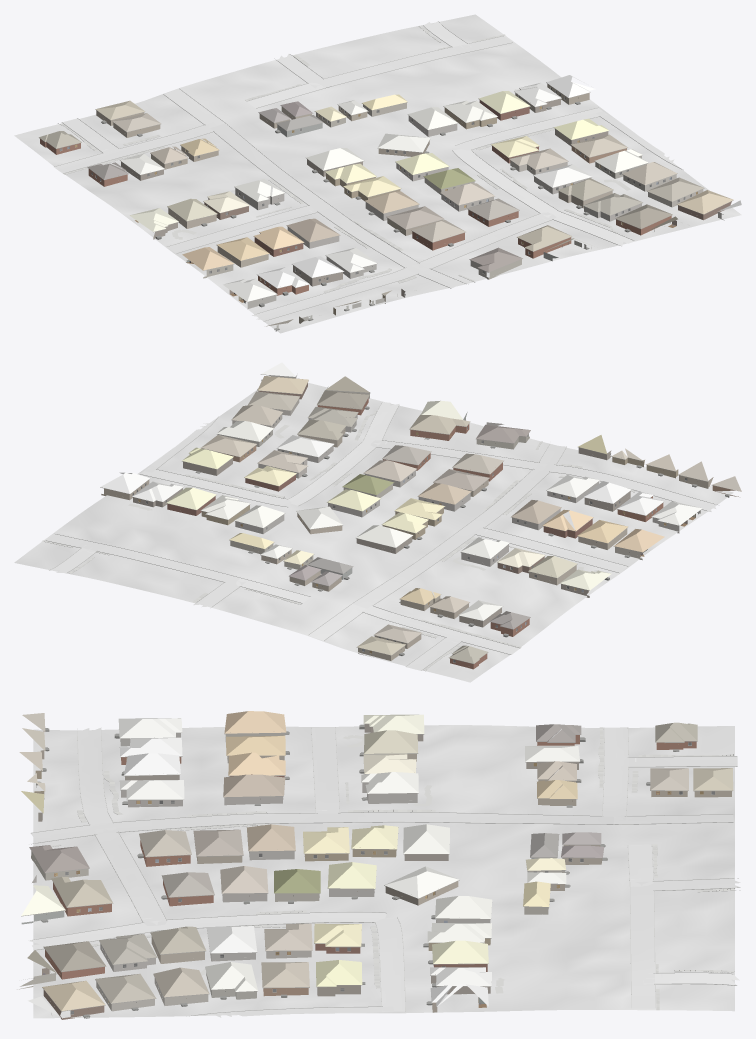
3 views of the same model, one above another, from view 1: azimuth 30°, elevation 25°; view 2: azimuth 150°, elevation 25°; view 3: azimuth 270°, elevation 25° (orthographic). The views are drawn at different scales.
Visible parts, largest first — view 1: ground, roof, concrete, wall, detail, wall_stucco, curb, wall_stone, walk, glass; view 2: ground, roof, concrete, wall, detail, curb, wall_stucco, wall_stone, walk; view 3: ground, roof, concrete, wall, curb, detail, wall_stucco, wall_stone, walk.
Boxes of the visible parts, left/top/right/bottom form: ground: left=14, top=14, right=741, bottom=333; roof: left=39, top=75, right=741, bottom=326; concrete: left=54, top=21, right=674, bottom=320; wall: left=40, top=84, right=731, bottom=323; detail: left=39, top=82, right=733, bottom=331; wall_stucco: left=168, top=102, right=703, bottom=279; curb: left=54, top=21, right=682, bottom=321; wall_stone: left=235, top=116, right=724, bottom=309; walk: left=60, top=25, right=630, bottom=292; glass: left=59, top=87, right=691, bottom=303; ground: left=14, top=382, right=733, bottom=682; roof: left=100, top=362, right=741, bottom=663; concrete: left=46, top=402, right=715, bottom=670; wall: left=101, top=383, right=738, bottom=669; detail: left=100, top=374, right=732, bottom=664; curb: left=44, top=402, right=717, bottom=671; wall_stucco: left=218, top=390, right=642, bottom=585; wall_stone: left=235, top=375, right=679, bottom=566; walk: left=42, top=410, right=636, bottom=670; ground: left=33, top=725, right=734, bottom=1018; roof: left=19, top=711, right=733, bottom=1015; concrete: left=28, top=727, right=740, bottom=1017; wall: left=34, top=724, right=731, bottom=1019; curb: left=30, top=727, right=740, bottom=1016; detail: left=21, top=723, right=732, bottom=1018; wall_stucco: left=17, top=732, right=602, bottom=1011; wall_stone: left=32, top=733, right=490, bottom=971; walk: left=51, top=727, right=734, bottom=1010.
Size of the model in its own units: 261 by 15.3 by 259.
